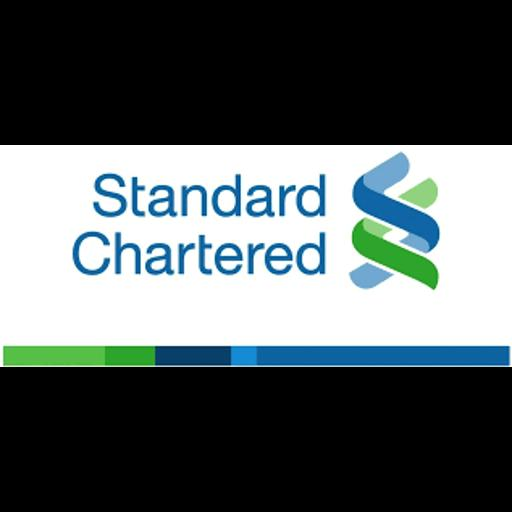Standard Chartered Bank: (0, 145, 512, 367)
